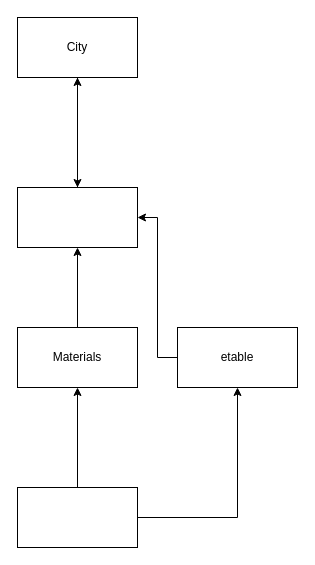
The diagram is 315 pixels wide and 565 high, and some of its shapes have lost their labels. Each missing label, with the box of its shape:
cargo interface: (16, 486, 138, 548)
ship: (16, 186, 138, 248)
